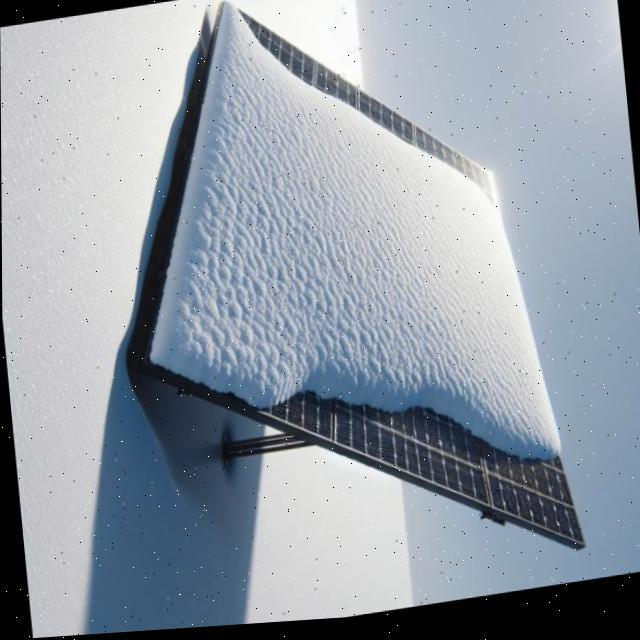Anomaly Solar Panel: (72, 2, 640, 550)
Snow: (130, 2, 632, 471)
